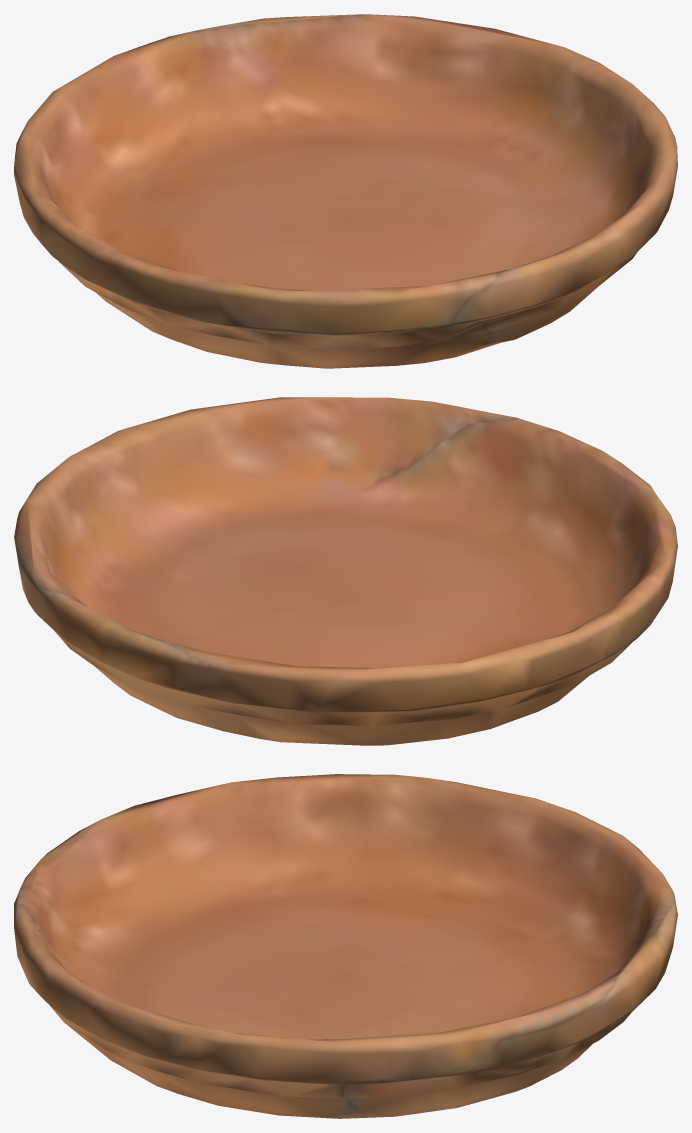
Rendered from Cole_Hardware_Saucer_Glazed_6-medium.glb.
3 views of the same model, one above another, from view 1: azimuth 30°, elevation 25°; view 2: azimuth 150°, elevation 25°; view 3: azimuth 270°, elevation 25° (orthographic).
Parts seen in each view (by area): view 1: Cole_Hardware_Saucer_Glazed_6; view 2: Cole_Hardware_Saucer_Glazed_6; view 3: Cole_Hardware_Saucer_Glazed_6.
Part boxes in pixels (x1,y1,x2,y2): Cole_Hardware_Saucer_Glazed_6: [14, 14, 677, 368]; Cole_Hardware_Saucer_Glazed_6: [14, 397, 677, 745]; Cole_Hardware_Saucer_Glazed_6: [14, 774, 677, 1118].
Bounding box in the file's own units: 0.1599 × 0.0296 × 0.1594.
Materials: 1 (1 with a texture image).
